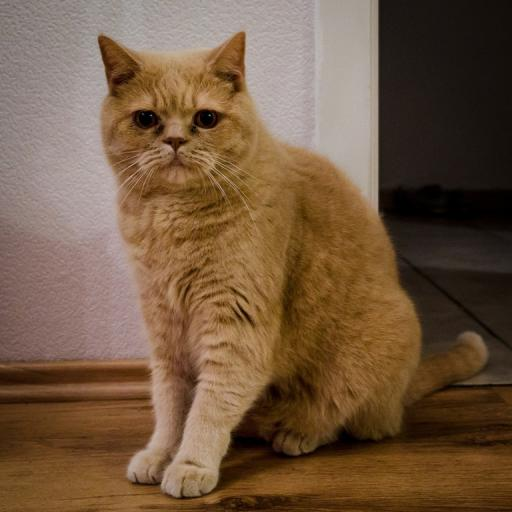cat: (97, 31, 489, 498)
